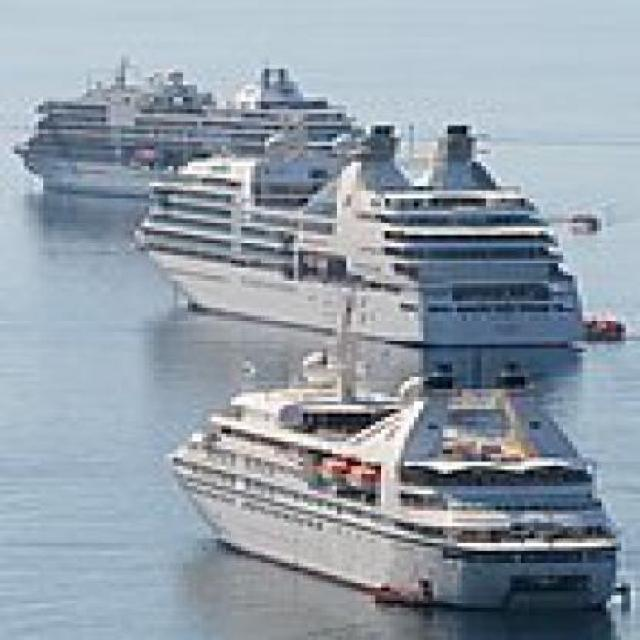cruise: (160, 341, 637, 626), (112, 114, 607, 362)
